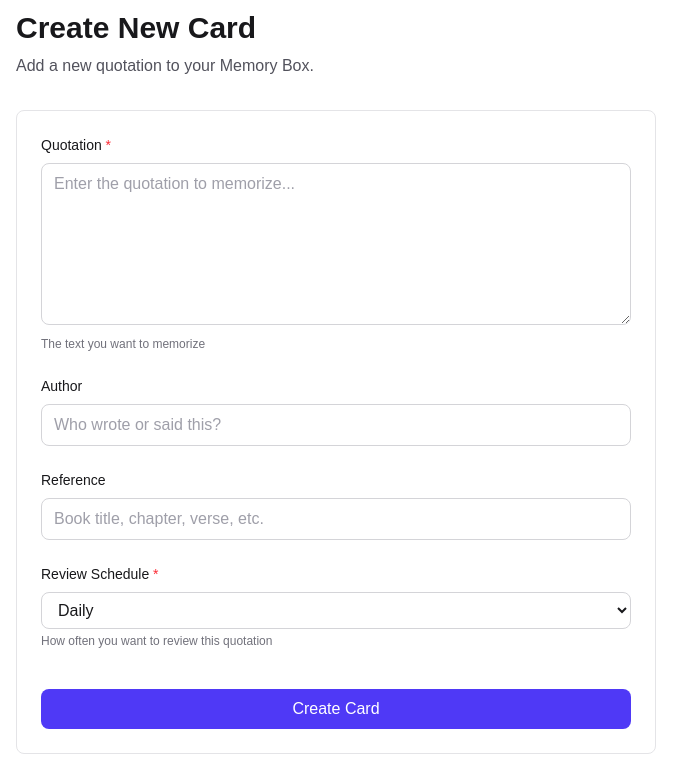
NewCardPage › should create a card and show success message
Note: Fill in the form
Type "Test quotation" into the text box labelled "Quotation *" at [336, 244], box [41,163,631,325]
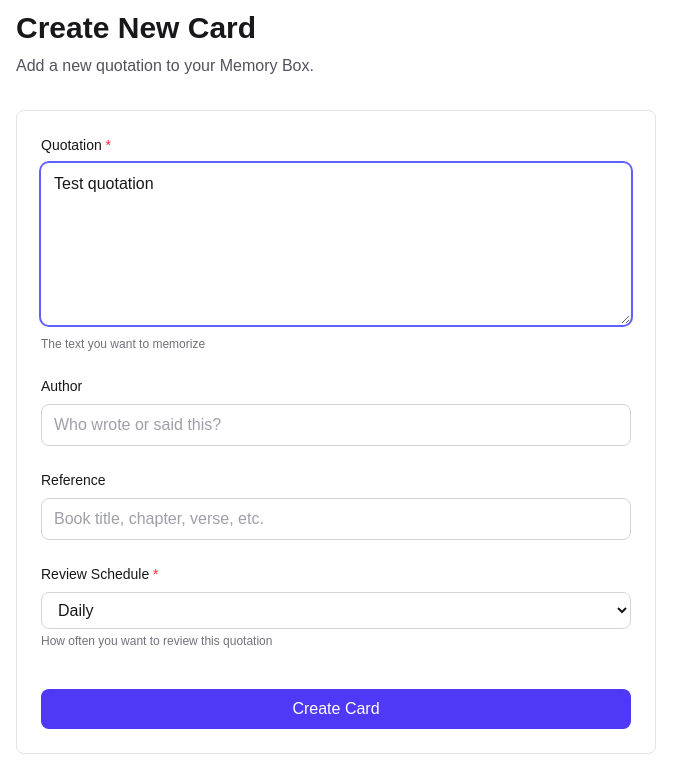
Click the button "Create Card" at [336, 709], box [41,689,631,729]
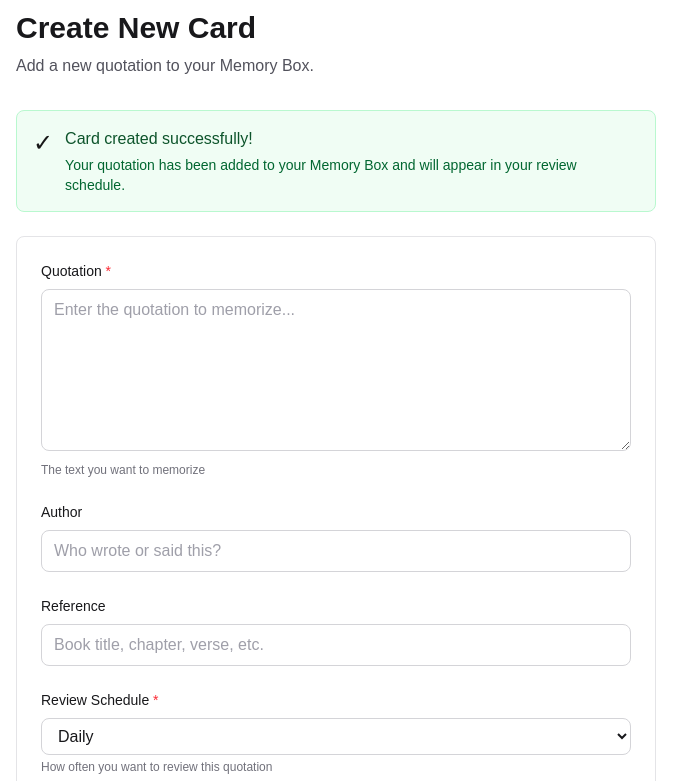
expect the text "Card created successfully!" is shown: met, box [65,130,253,147]
expect the text "Your quotation has been added to your Memory Box" is shown: met, box [65,157,577,193]
